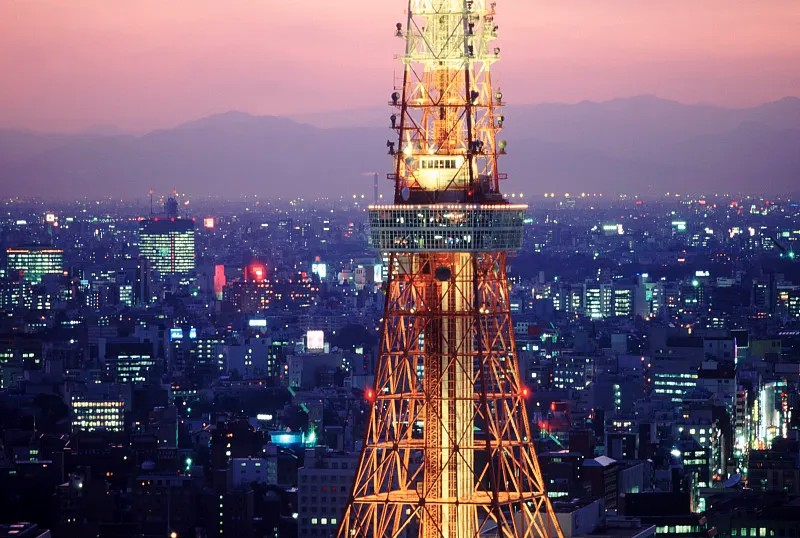Tokyo: (334, 1, 563, 536)
